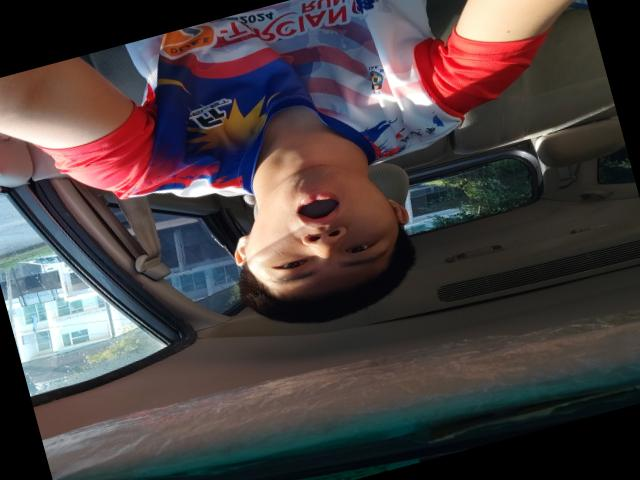eye_open: (268, 252, 314, 277), (340, 236, 385, 260)
face: (230, 147, 406, 304)
mouth_open: (286, 182, 348, 234)
